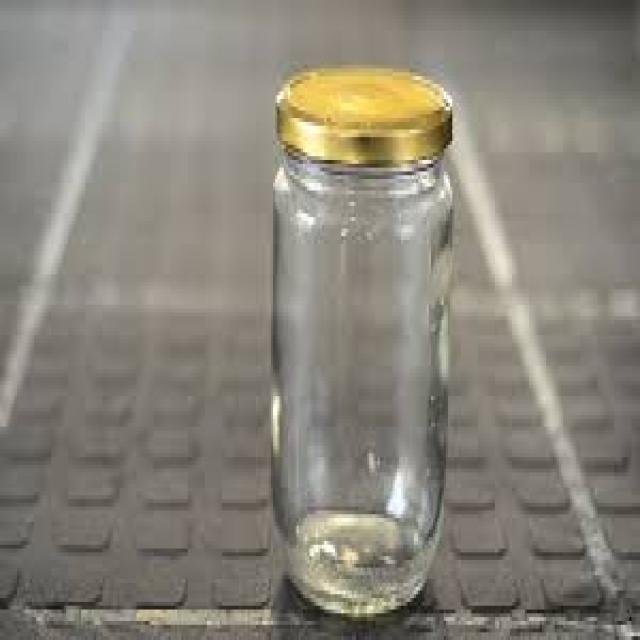Anorganik: (271, 145, 448, 613), (273, 65, 450, 164)
